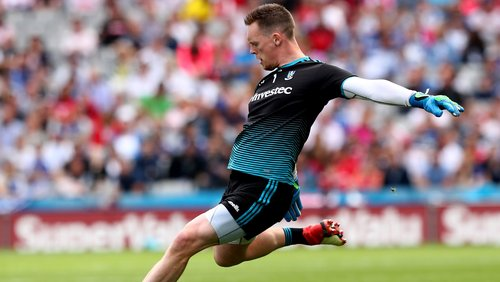player: (202, 3, 357, 253)
